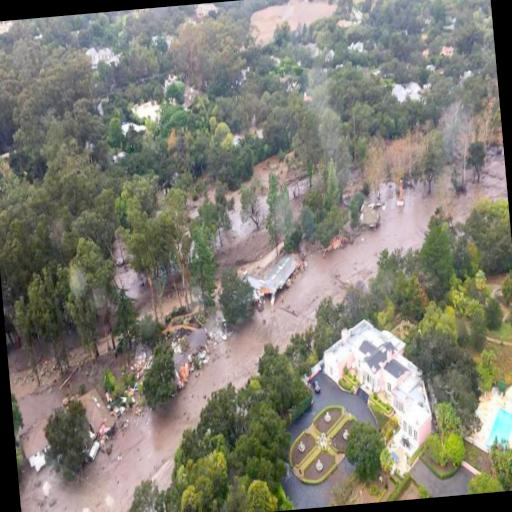flood: (20, 158, 508, 512), (9, 358, 60, 396), (114, 236, 140, 300), (227, 189, 257, 236), (162, 298, 183, 316)
house: (318, 312, 440, 488), (461, 373, 512, 457), (245, 248, 297, 298), (80, 388, 114, 437)
